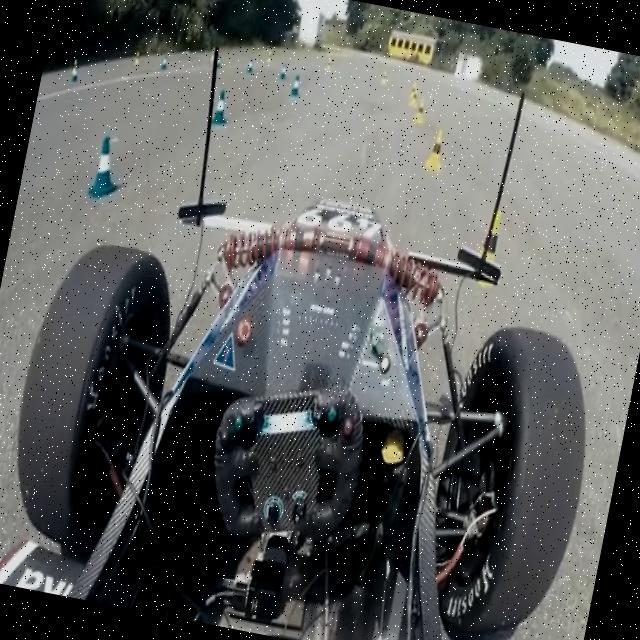blue_cone: (85, 132, 128, 205), (209, 86, 233, 129), (290, 72, 304, 99)
yellow_cone: (468, 204, 508, 286), (422, 126, 449, 176), (412, 98, 428, 126)
